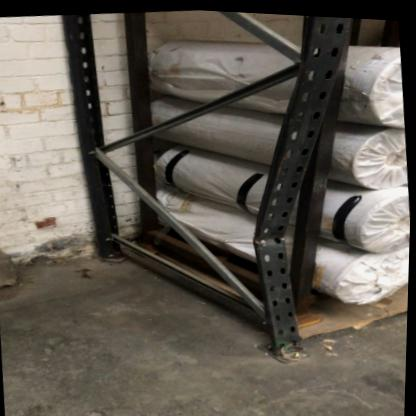vertical_damage: (237, 119, 335, 298)
